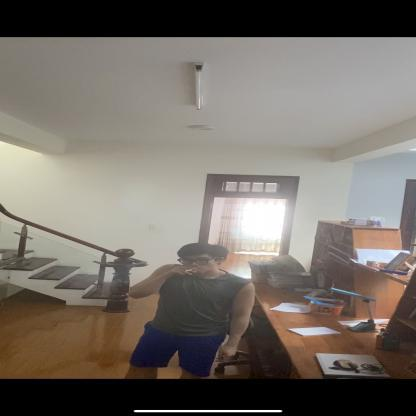cigarette: (185, 269, 193, 272)
person: (123, 242, 257, 380)
